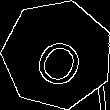O_NE: (26, 22, 89, 87)
